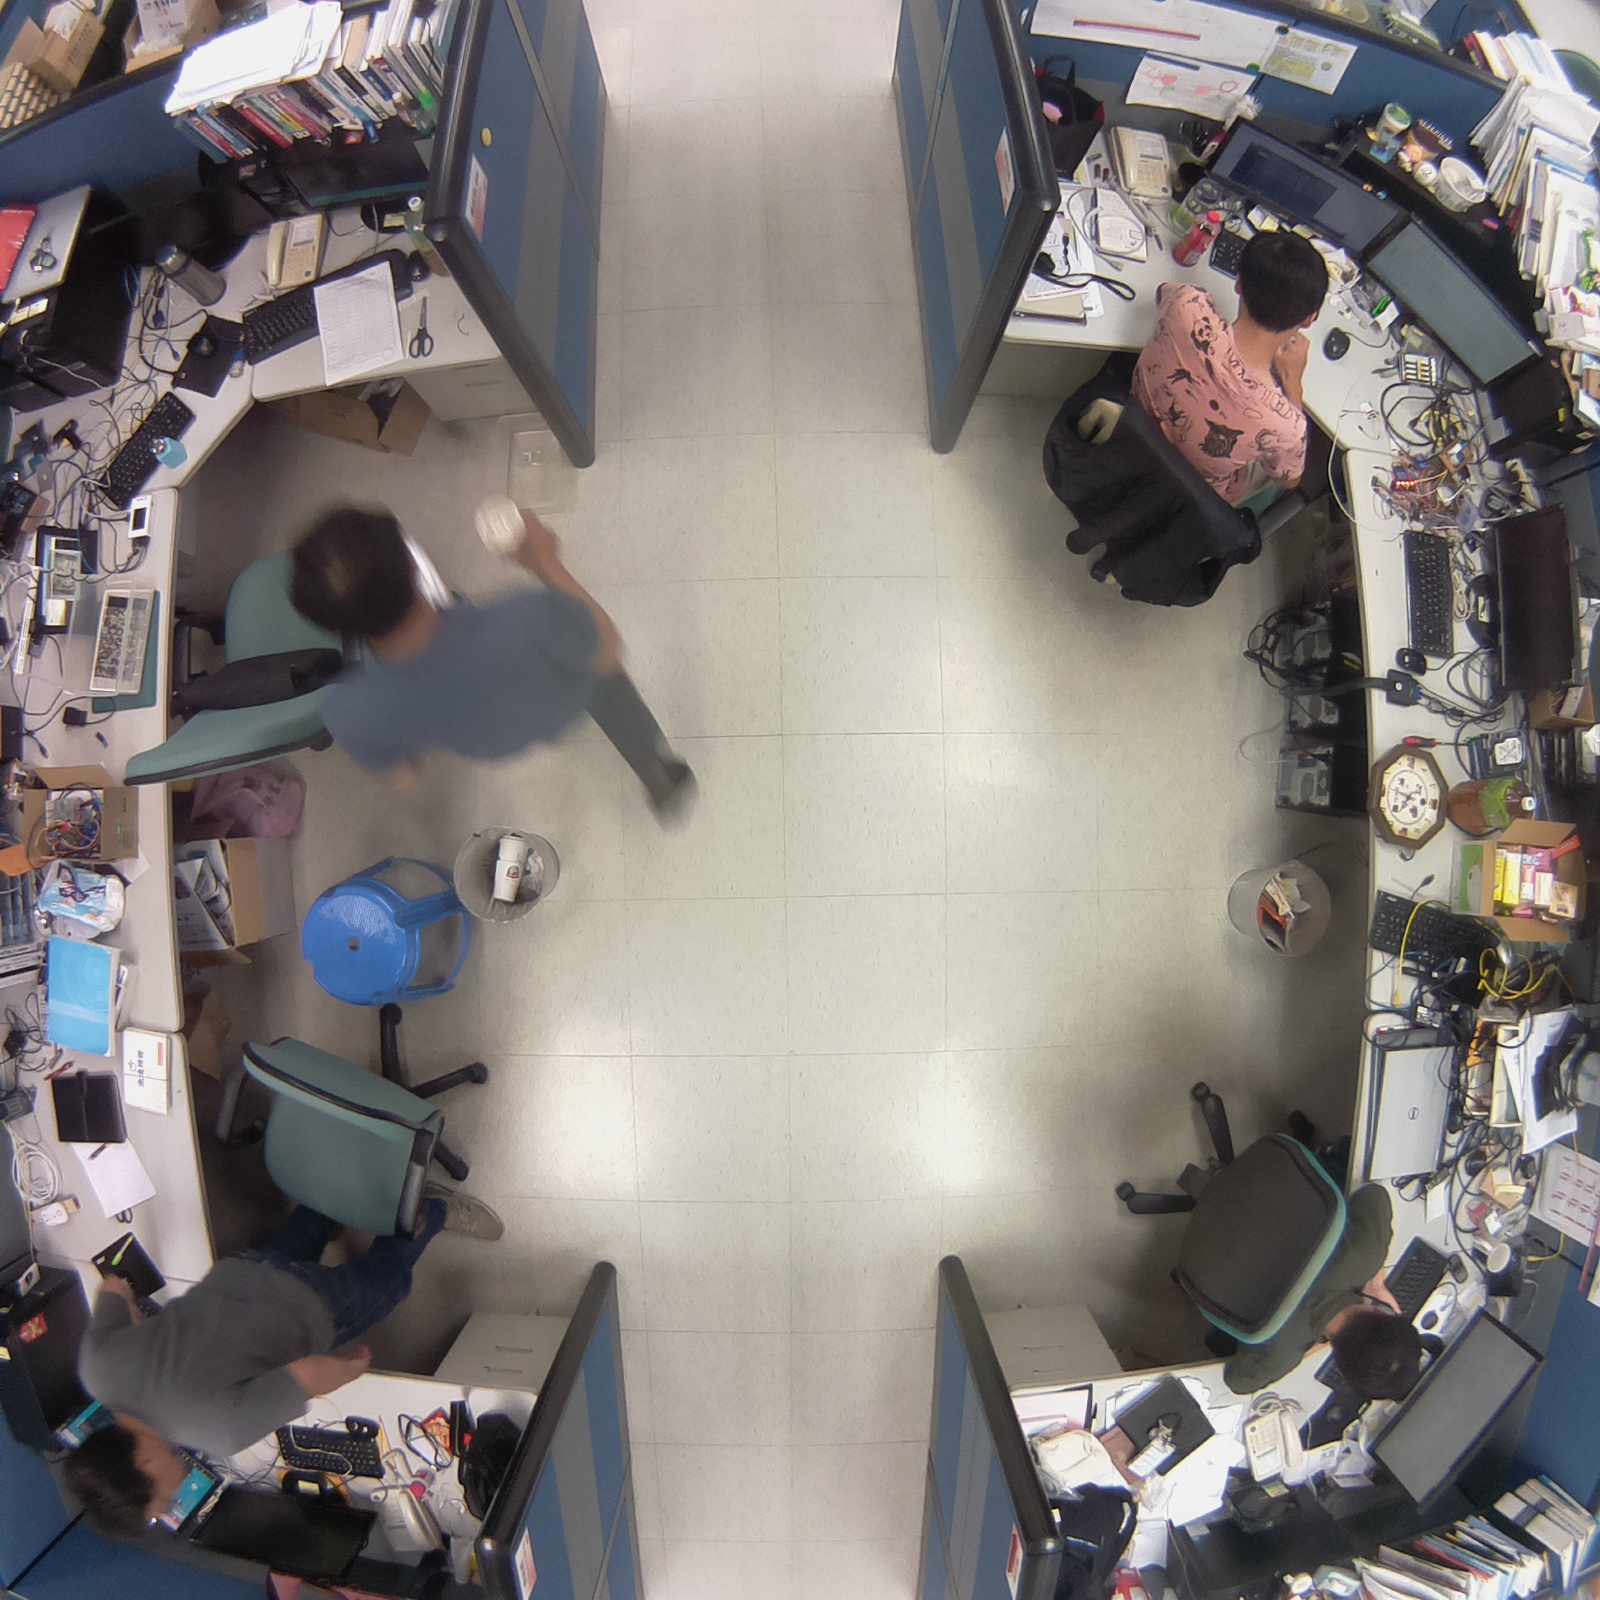chair: (199, 991, 501, 1252)
head: (276, 490, 431, 645), (54, 1422, 194, 1541), (1229, 225, 1335, 335), (1329, 1302, 1429, 1408)
sitting: (53, 1175, 510, 1537), (1027, 229, 1364, 629), (1091, 1068, 1435, 1429)
walking: (256, 492, 715, 844)
